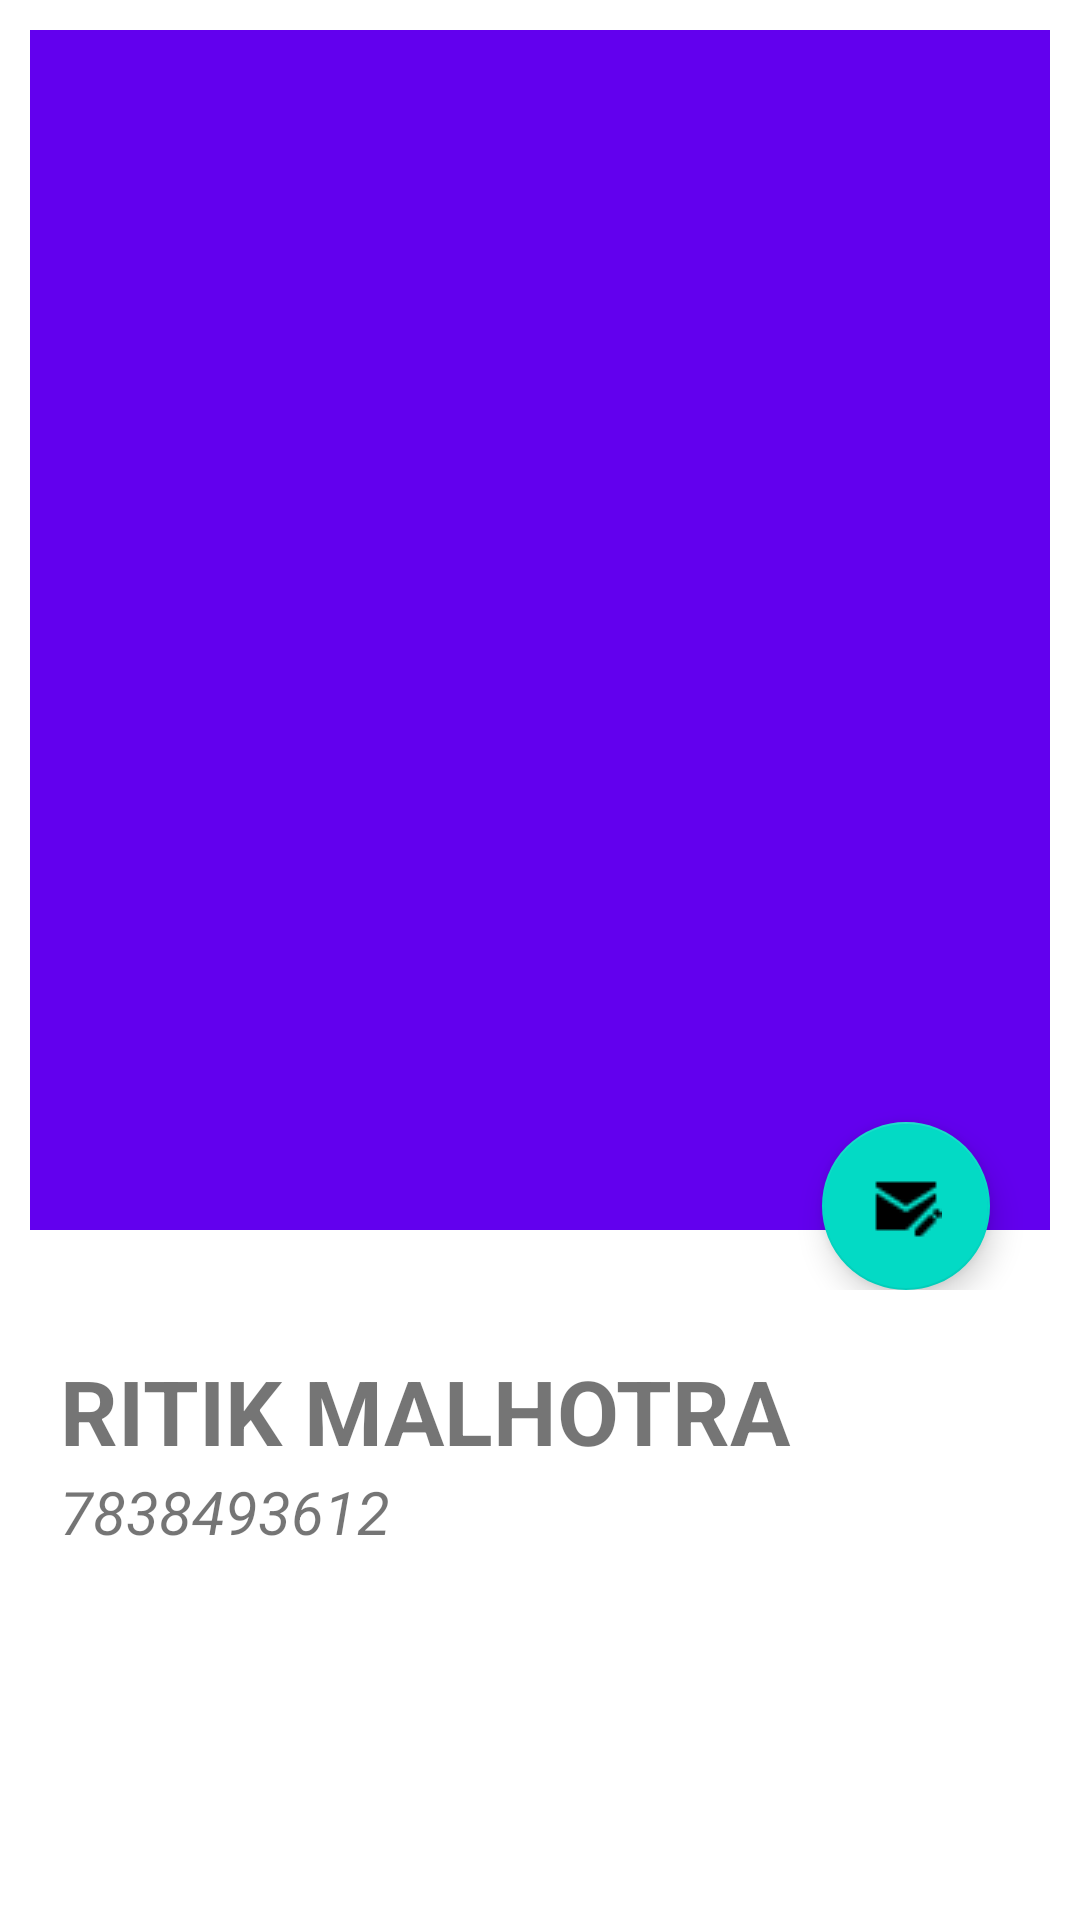

Screen size 1080px x 1920px. Icon name, then its center in pixels as (x=x, y=y):
edit message: (x=906, y=1206)
